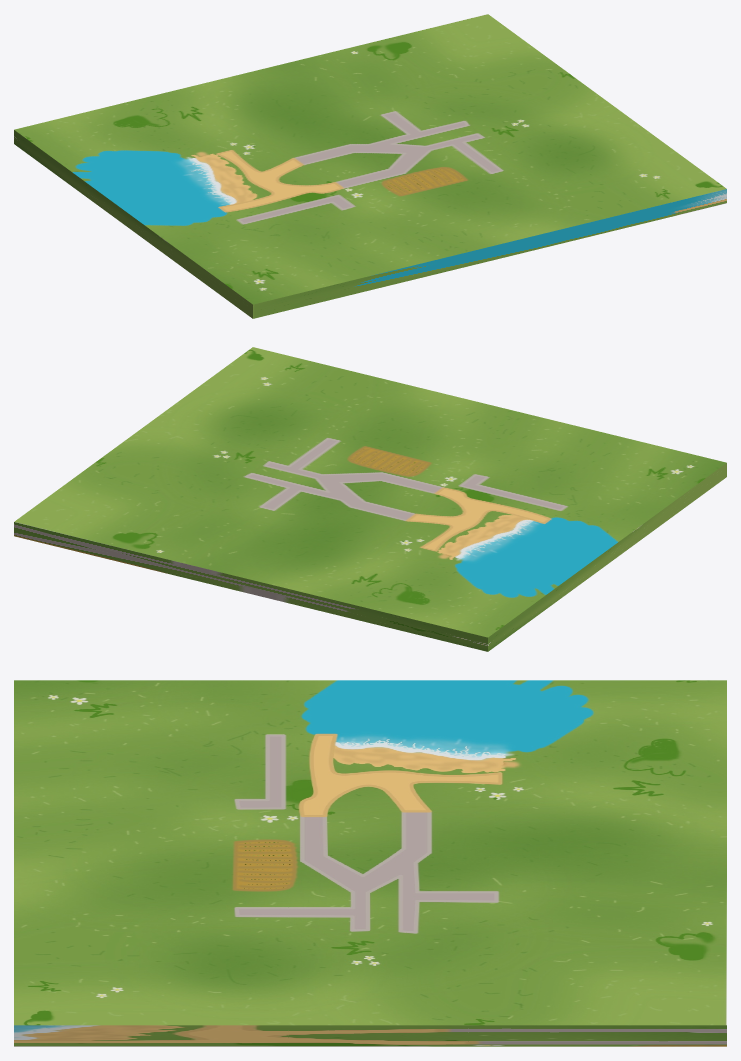
Rendered from NEWGROUND.fbx.
The picture shows the model from 3 angles, top to bottom: view 1: azimuth 30°, elevation 25°; view 2: azimuth 150°, elevation 25°; view 3: azimuth 270°, elevation 25°; orthographic projection. The views are drawn at different scales.
Visible parts, largest first — view 1: Cube.001; view 2: Cube.001; view 3: Cube.001.
Part boxes in pixels (x1=…): Cube.001: x1=14, y1=14, x2=726, y2=318; Cube.001: x1=14, y1=347, x2=726, y2=651; Cube.001: x1=14, y1=680, x2=726, y2=1046.
Bounding box in the file's own units: 5867 × 170 × 5123.
